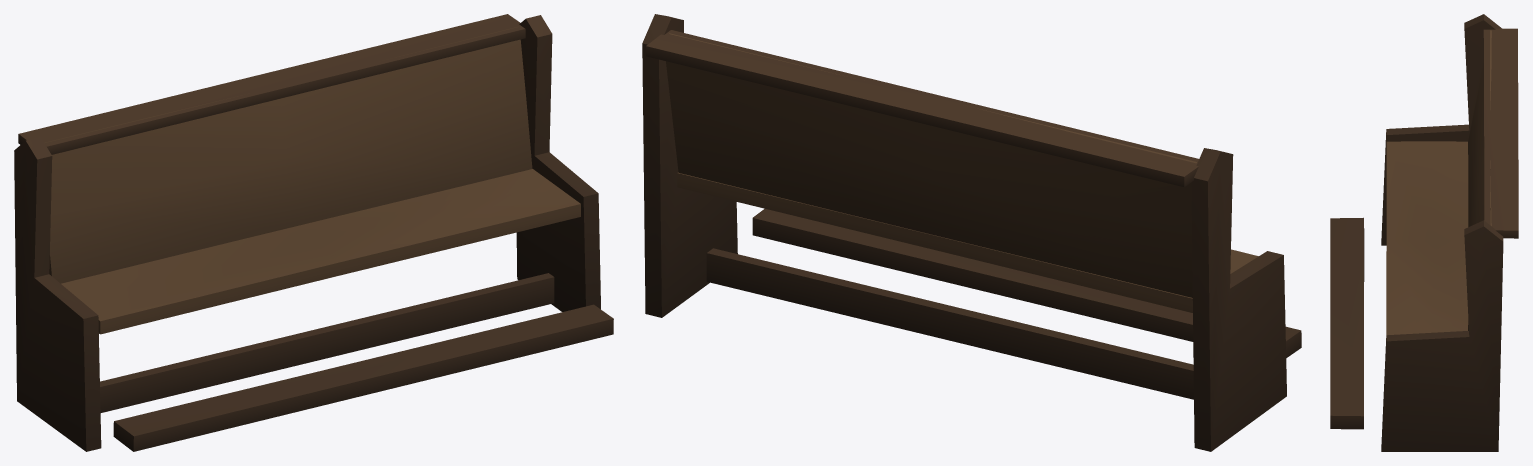
The model's file is ph_int_pew.glb.
The picture shows the model from 3 angles, left to right: view 1: azimuth 30°, elevation 25°; view 2: azimuth 150°, elevation 25°; view 3: azimuth 270°, elevation 25°; orthographic projection. The views are drawn at different scales.
Visible parts, largest first — view 1: ph_int_pew; view 2: ph_int_pew; view 3: ph_int_pew.
Part boxes in pixels (bbox=[...]): ph_int_pew: bbox=[14, 14, 613, 451]; ph_int_pew: bbox=[642, 14, 1301, 451]; ph_int_pew: bbox=[1330, 14, 1518, 451].
Bounding box in the file's own units: 2.06 × 1.02 × 0.773.
